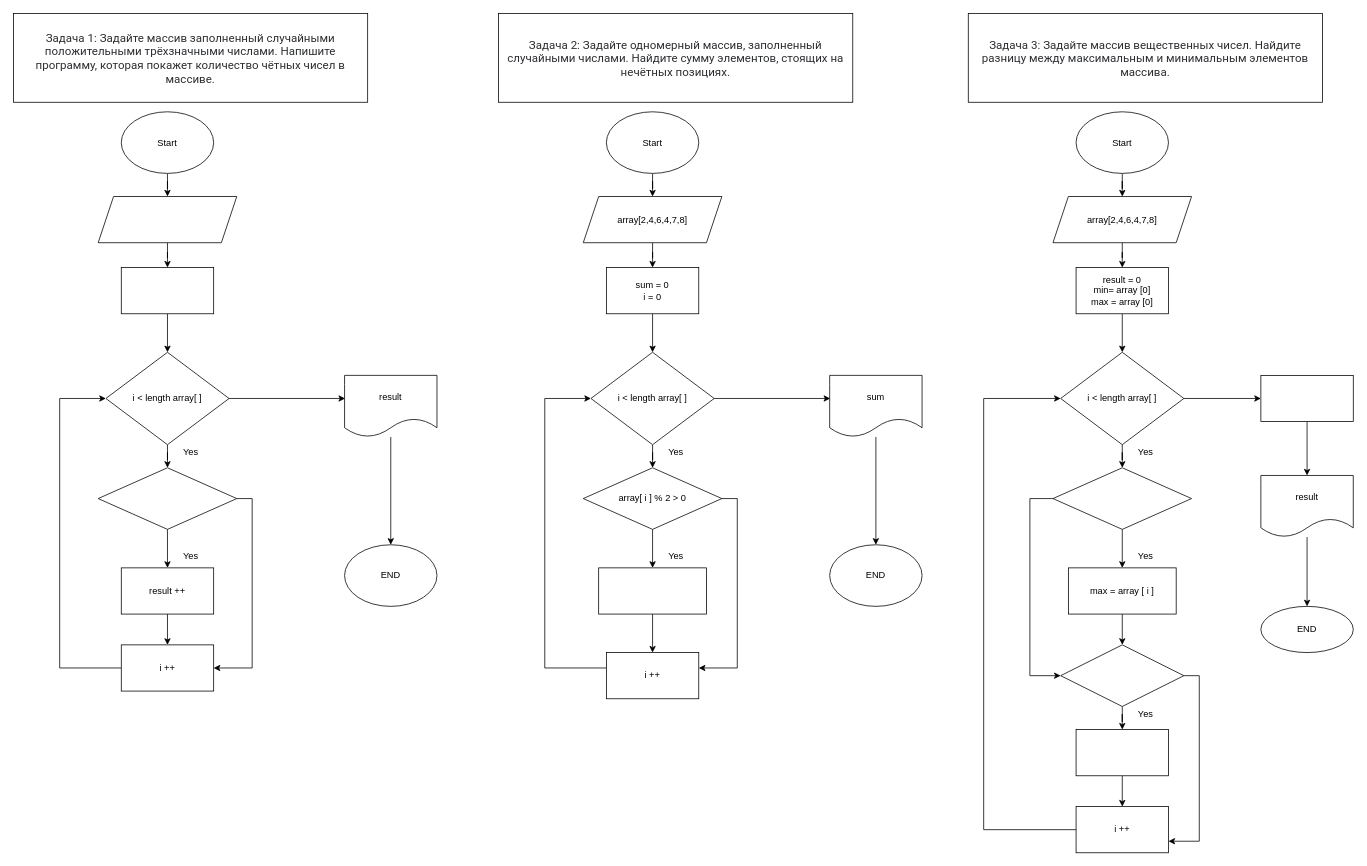
The diagram is 1367 pixels wide and 866 high, and some of its shapes have lost their labels. Here are the shapes that lost their labels. From the top down, the box of each, then its label:
(97, 196, 237, 243): array[100, 999]
(121, 267, 214, 314): result = 0 i = 0
(1260, 375, 1353, 422): result = max - min
(97, 467, 237, 529): array[ i ] % 2 == 0
(1052, 467, 1192, 529): max < array[ i ]
(598, 567, 706, 614): sum = sum +array [ i ]
(1060, 644, 1184, 706): min > array[ i ]
(1075, 729, 1168, 776): man= array [ i ]
